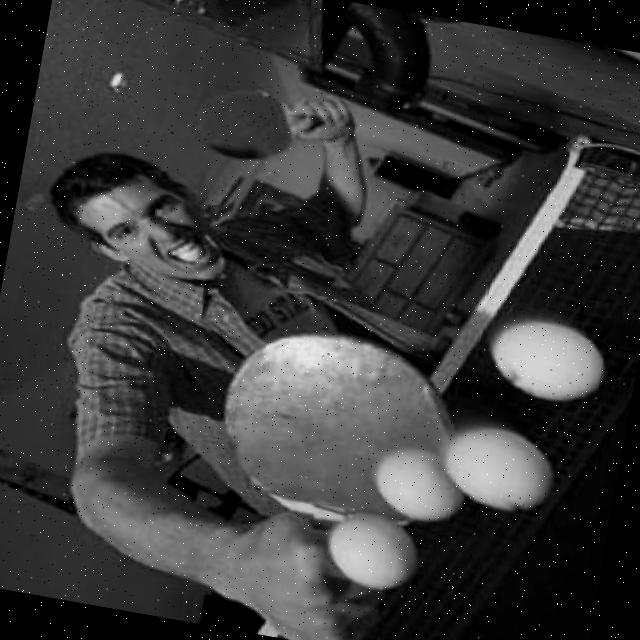ping-pong-ball: (484, 310, 613, 410), (436, 418, 560, 516), (320, 506, 422, 595), (370, 440, 471, 526)
